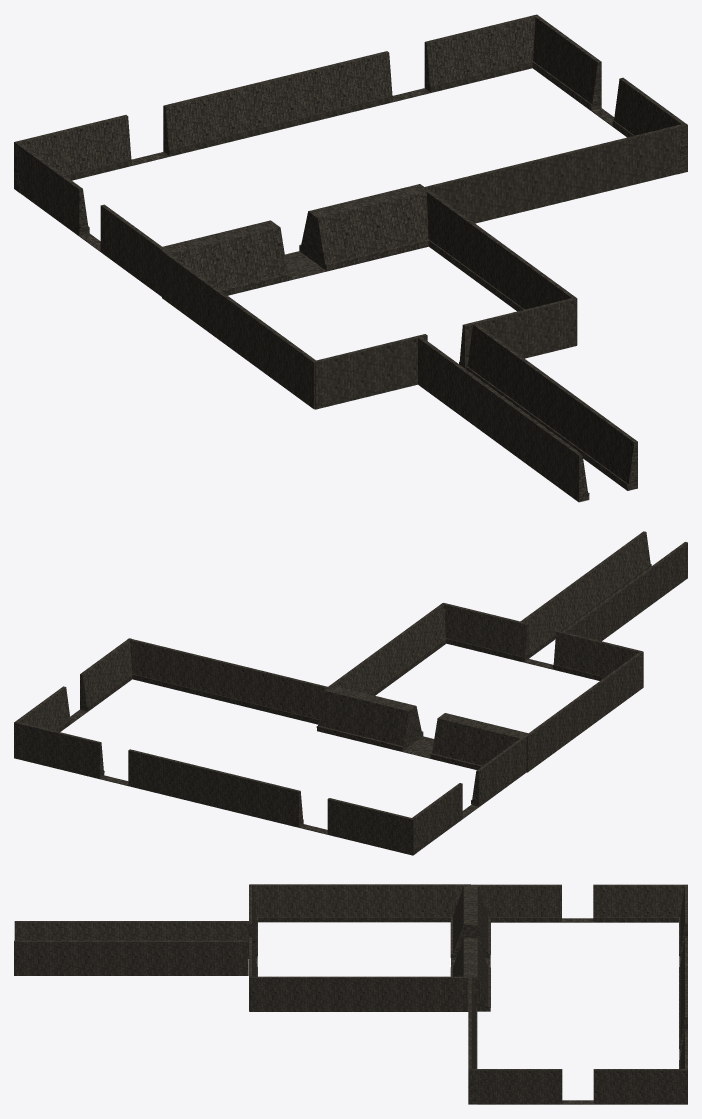
File: Room L-Shape.fbx
3 views of the same model, one above another, from view 1: azimuth 30°, elevation 25°; view 2: azimuth 150°, elevation 25°; view 3: azimuth 270°, elevation 25° (orthographic). The views are drawn at different scales.
Parts seen in each view (by area): view 1: pCube32; view 2: pCube32; view 3: pCube32.
Part boxes in pixels (x1,y1,x2,y2): pCube32: [14, 14, 687, 502]; pCube32: [14, 531, 687, 855]; pCube32: [14, 884, 687, 1104].
Size of the model in its own units: 140 by 12 by 215.
2 materials, 1 textured.
